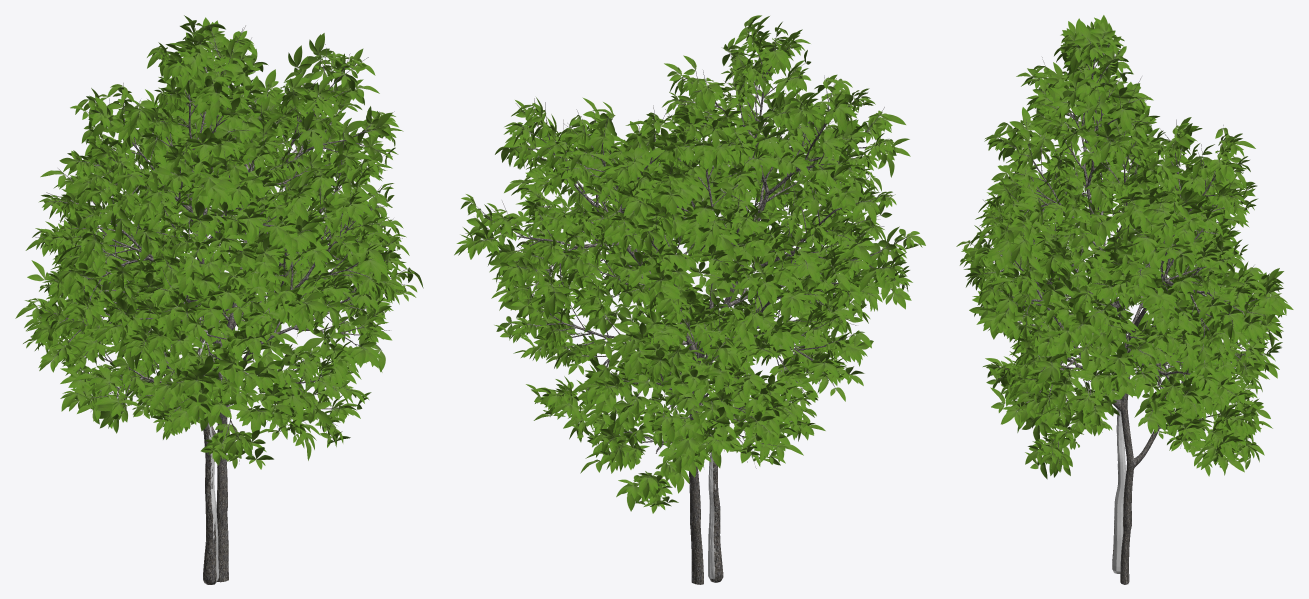
Rendered from Abacateiro_Arvore3.glb.
3 views of the same model, side by side, from view 1: azimuth 30°, elevation 25°; view 2: azimuth 150°, elevation 25°; view 3: azimuth 270°, elevation 25° (orthographic). The views are drawn at different scales.
Parts seen in each view (by area): view 1: cgaxis_models_105_04_02, cgaxis_models_105_04_01.002, Cube.002, Cube.001; view 2: cgaxis_models_105_04_02, cgaxis_models_105_04_01.002, Cube.002, Cube.001; view 3: cgaxis_models_105_04_02, cgaxis_models_105_04_01.002, Cube.001.
Boxes of the visible parts, bbox=[...] form: cgaxis_models_105_04_02: bbox=[15, 15, 423, 469]; cgaxis_models_105_04_01.002: bbox=[30, 21, 408, 582]; Cube.002: bbox=[197, 339, 216, 584]; Cube.001: bbox=[196, 333, 218, 583]; cgaxis_models_105_04_02: bbox=[454, 15, 925, 513]; cgaxis_models_105_04_01.002: bbox=[465, 27, 911, 584]; Cube.002: bbox=[707, 356, 723, 582]; Cube.001: bbox=[708, 427, 715, 580]; cgaxis_models_105_04_02: bbox=[956, 15, 1293, 479]; cgaxis_models_105_04_01.002: bbox=[967, 22, 1278, 584]; Cube.001: bbox=[1112, 409, 1126, 573].
Size of the model in its own units: 2.29 by 3.3 by 1.86.
Materials: 2 (2 with a texture image).
